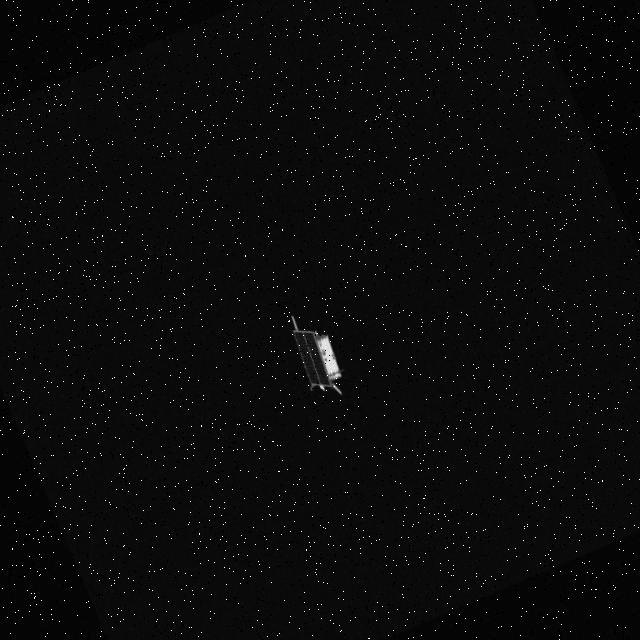medium_debris: (276, 304, 356, 410)
